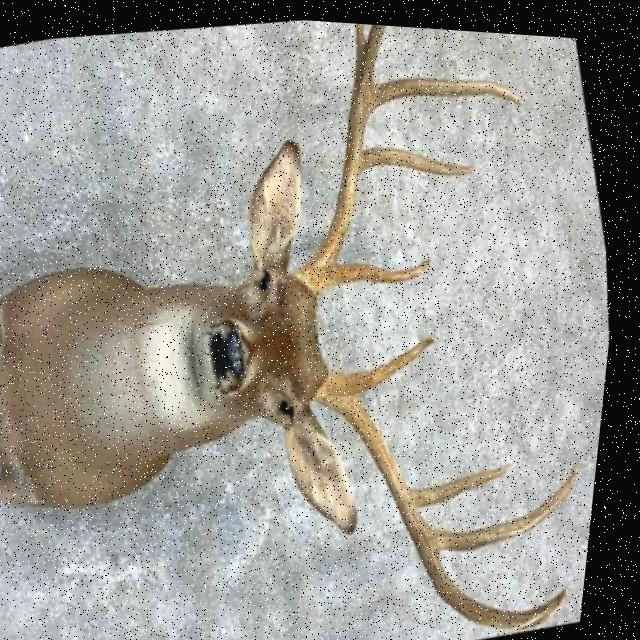E1: (357, 19, 366, 47)
L-F: (323, 363, 581, 622)
L-G1: (349, 329, 444, 392)
L-G2: (421, 456, 519, 501)
L-G3: (440, 454, 589, 546)
R-F: (297, 19, 387, 290)
R-G1: (332, 250, 436, 282)
R-G2: (364, 139, 482, 168)
R-G3: (374, 68, 524, 104)
